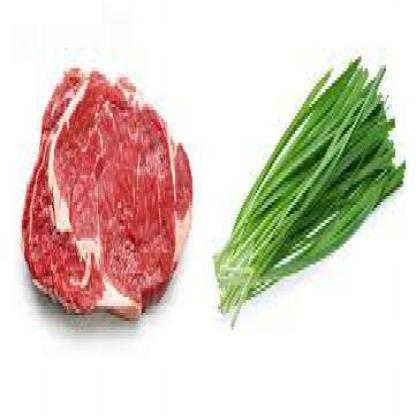beef: (23, 53, 199, 350)
